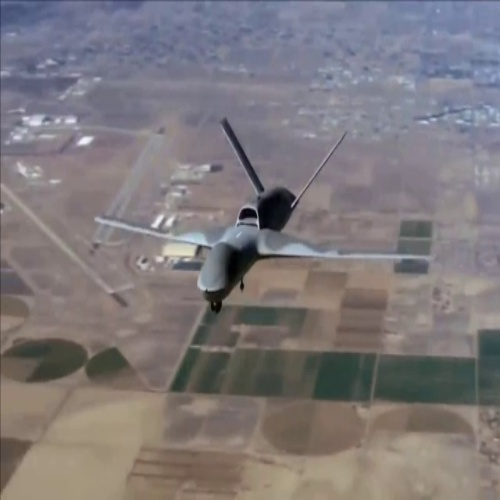uav972: (90, 113, 438, 313)
